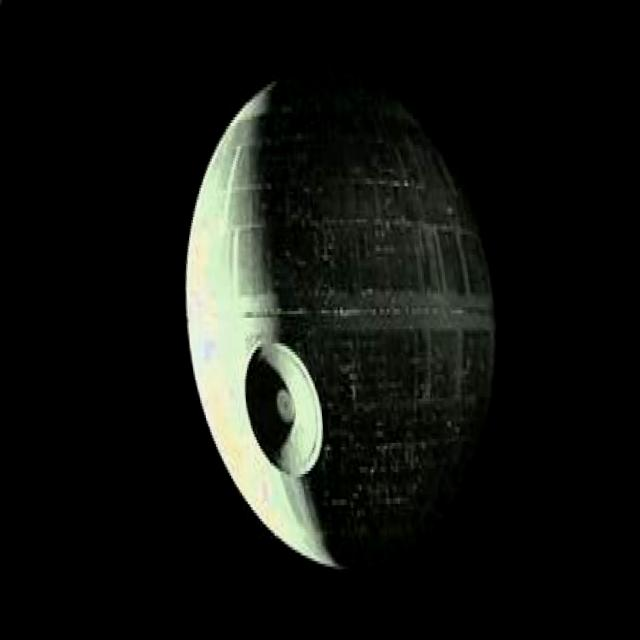deathStar: (164, 55, 508, 573)
